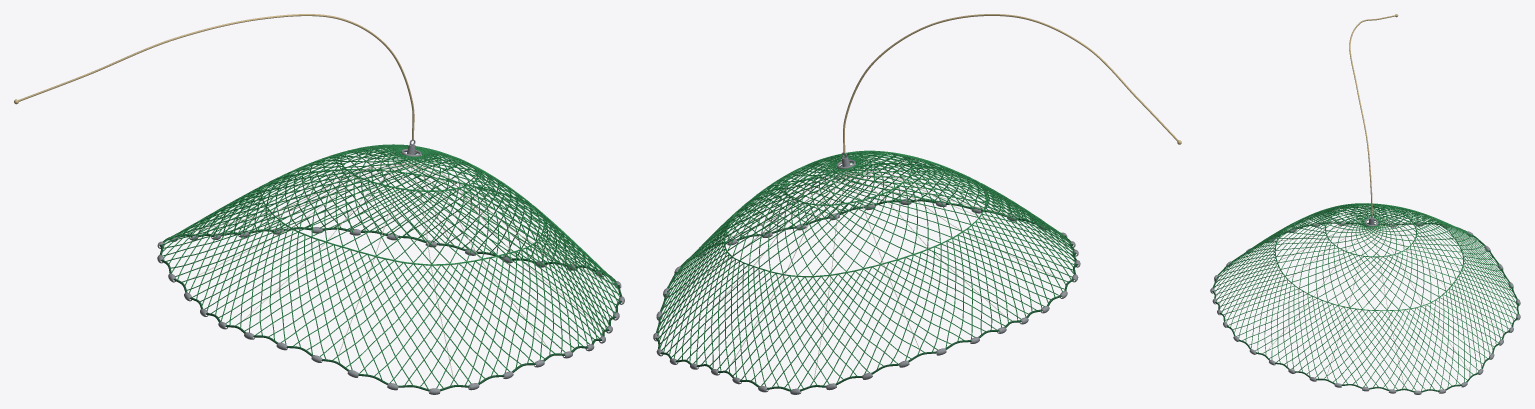
File: jaring dilempar.glb
The picture shows the model from 3 angles, left to right: view 1: azimuth 30°, elevation 25°; view 2: azimuth 150°, elevation 25°; view 3: azimuth 270°, elevation 25°; orthographic projection. The views are drawn at different scales.
Visible parts, largest first — view 1: nylon_mesh, brail_lines, lead_line, hand_rope; view 2: nylon_mesh, brail_lines, lead_line, hand_rope; view 3: nylon_mesh, brail_lines, lead_line, hand_rope.
Part boxes in pixels (<box>): nylon_mesh: <box>162,144,620,388</box>; brail_lines: <box>175,158,614,377</box>; lead_line: <box>159,227,621,391</box>; hand_rope: <box>18,14,414,140</box>; nylon_mesh: <box>657,150,1075,389</box>; brail_lines: <box>668,169,1066,381</box>; lead_line: <box>655,199,1077,391</box>; hand_rope: <box>843,14,1178,153</box>; nylon_mesh: <box>1213,203,1517,391</box>; brail_lines: <box>1219,220,1506,384</box>; lead_line: <box>1212,222,1519,392</box>; hand_rope: <box>1349,15,1396,214</box>.
Bounding box in the file's own units: 4.26 × 2.7 × 3.06.
